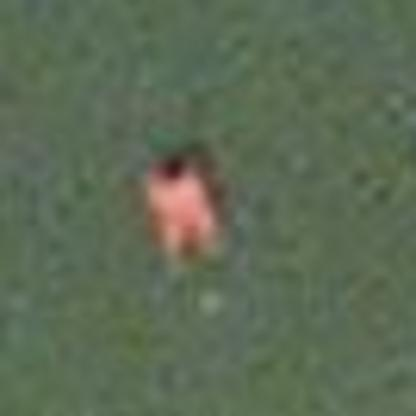ship: (117, 135, 278, 292)
